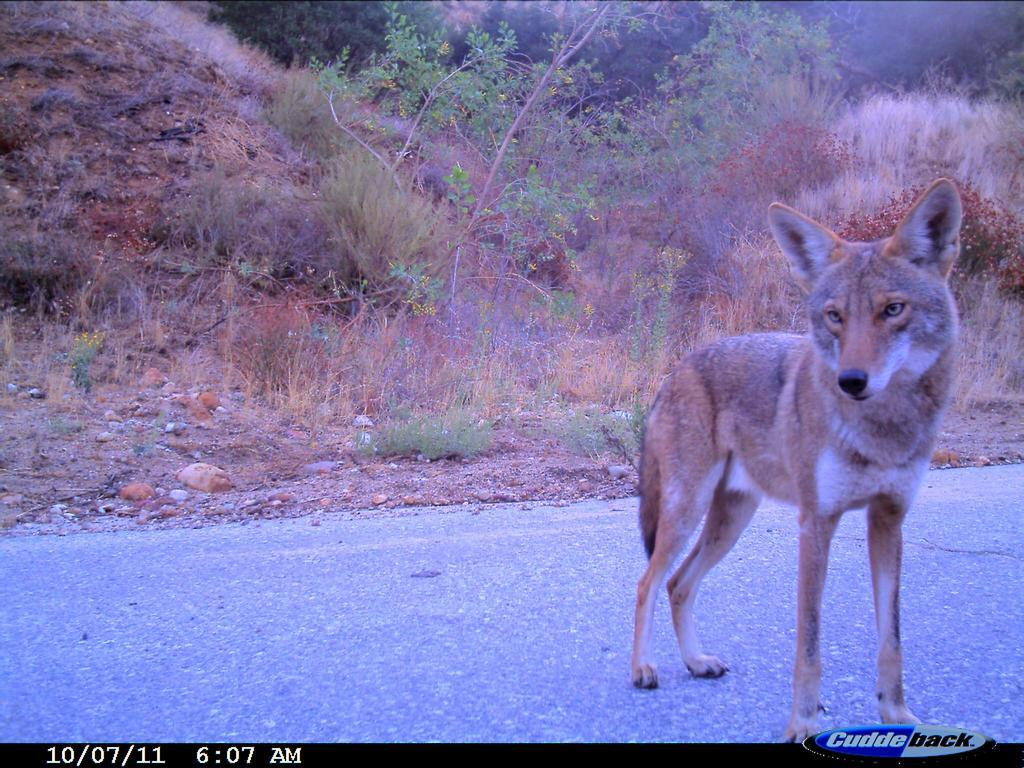coyote: (602, 140, 975, 742)
